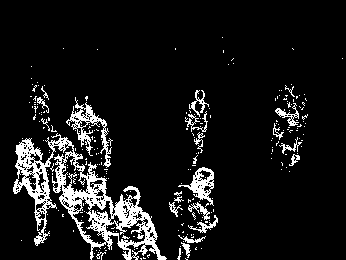person: (58, 174, 118, 260), (10, 137, 58, 241), (166, 168, 217, 260), (114, 184, 166, 260), (66, 95, 113, 174), (41, 134, 87, 194), (182, 88, 215, 167)
